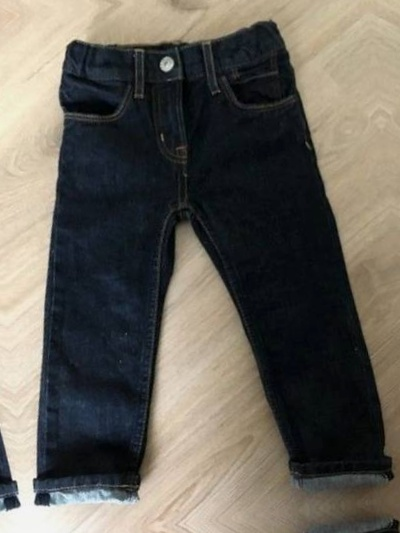Pants: (0, 0, 400, 522), (0, 38, 18, 533), (384, 0, 400, 476), (45, 518, 400, 533), (0, 0, 345, 3)
